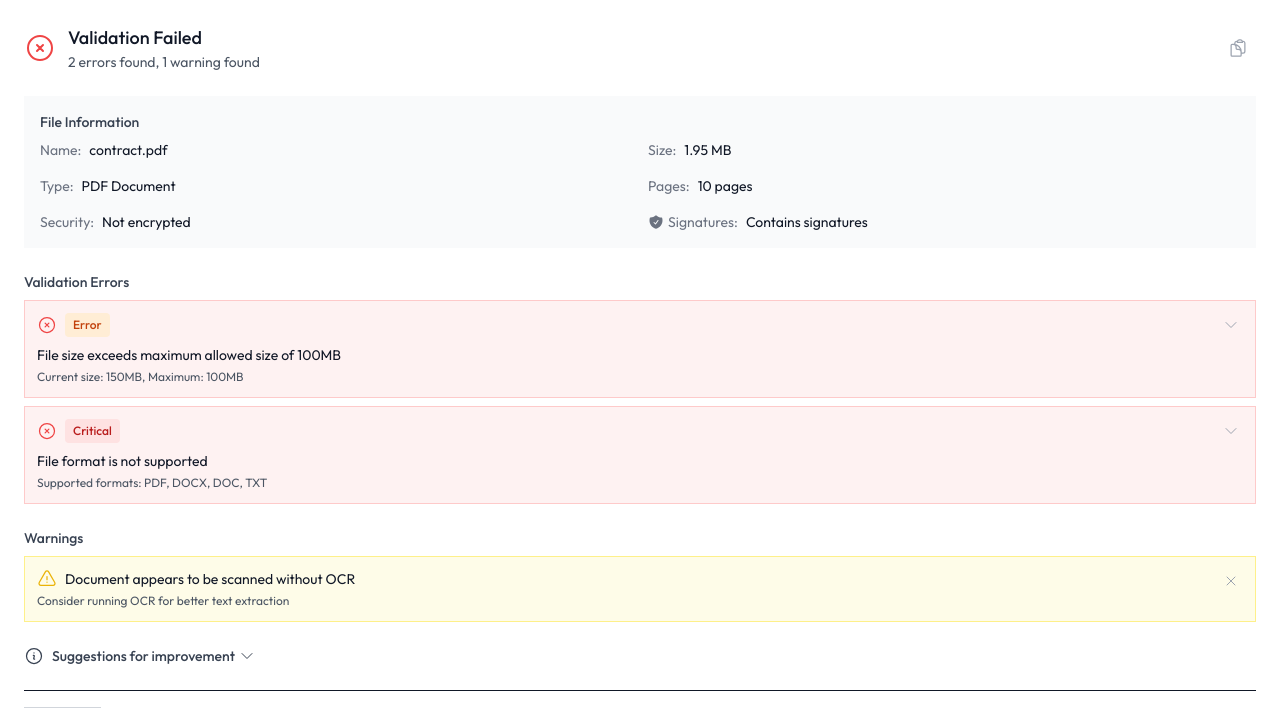
UploadValidationFeedback › Warning Display › should allow dismissing warnings
The width and height of the screenshot is (1280, 708).
Click the button named "dismiss warning": (1231, 581) [1219, 569, 1243, 593]
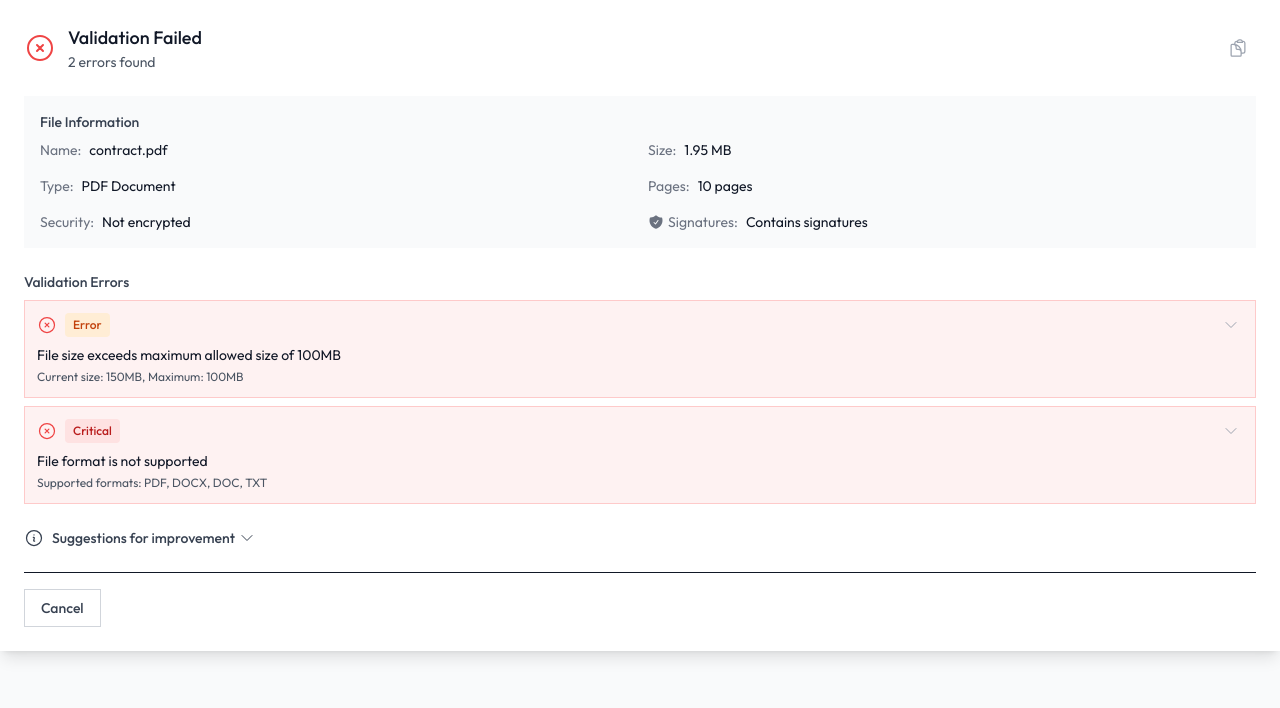
Expected: the text "Document appears to be scanned" is gone
